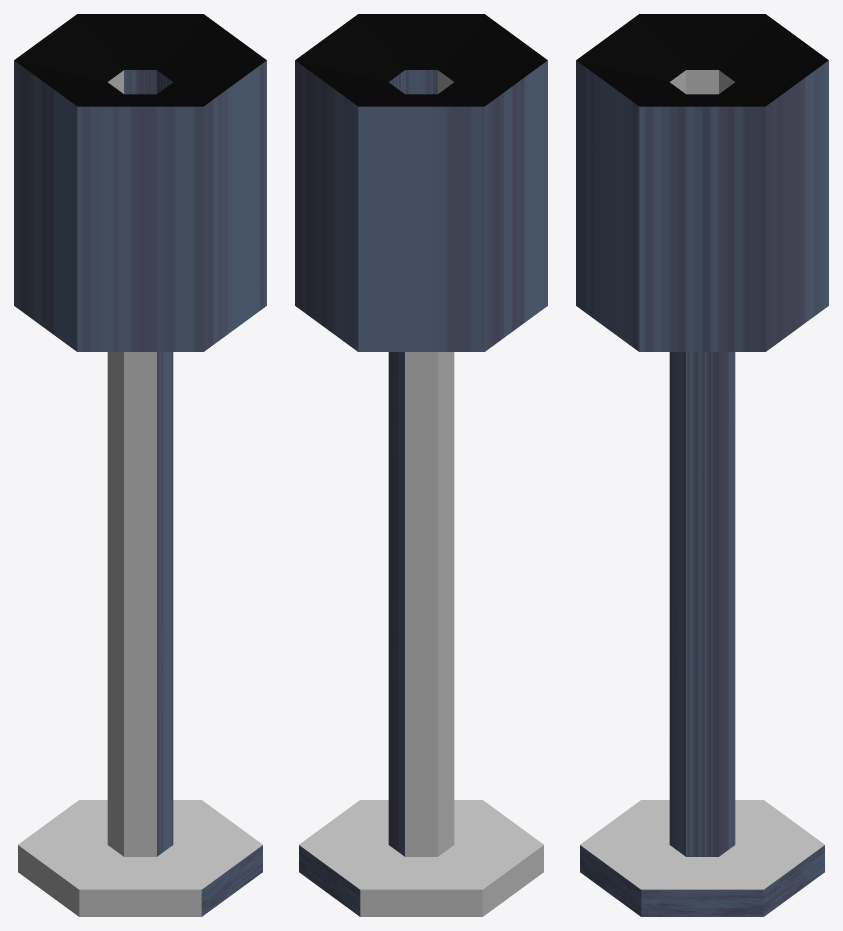
File: prop_lamp.obj
3 renders of one model, left to right at view 1: azimuth 30°, elevation 25°; view 2: azimuth 150°, elevation 25°; view 3: azimuth 270°, elevation 25°, orthographic.
Parts seen in each view (by area): view 1: Lamp; view 2: Lamp; view 3: Lamp.
Boxes of the visible parts, x1,y1,x2,y2 form: Lamp: [14, 14, 266, 916]; Lamp: [295, 14, 547, 916]; Lamp: [576, 14, 828, 916].
Size of the model in its own units: 0.9463 by 3.87 by 1.09.
